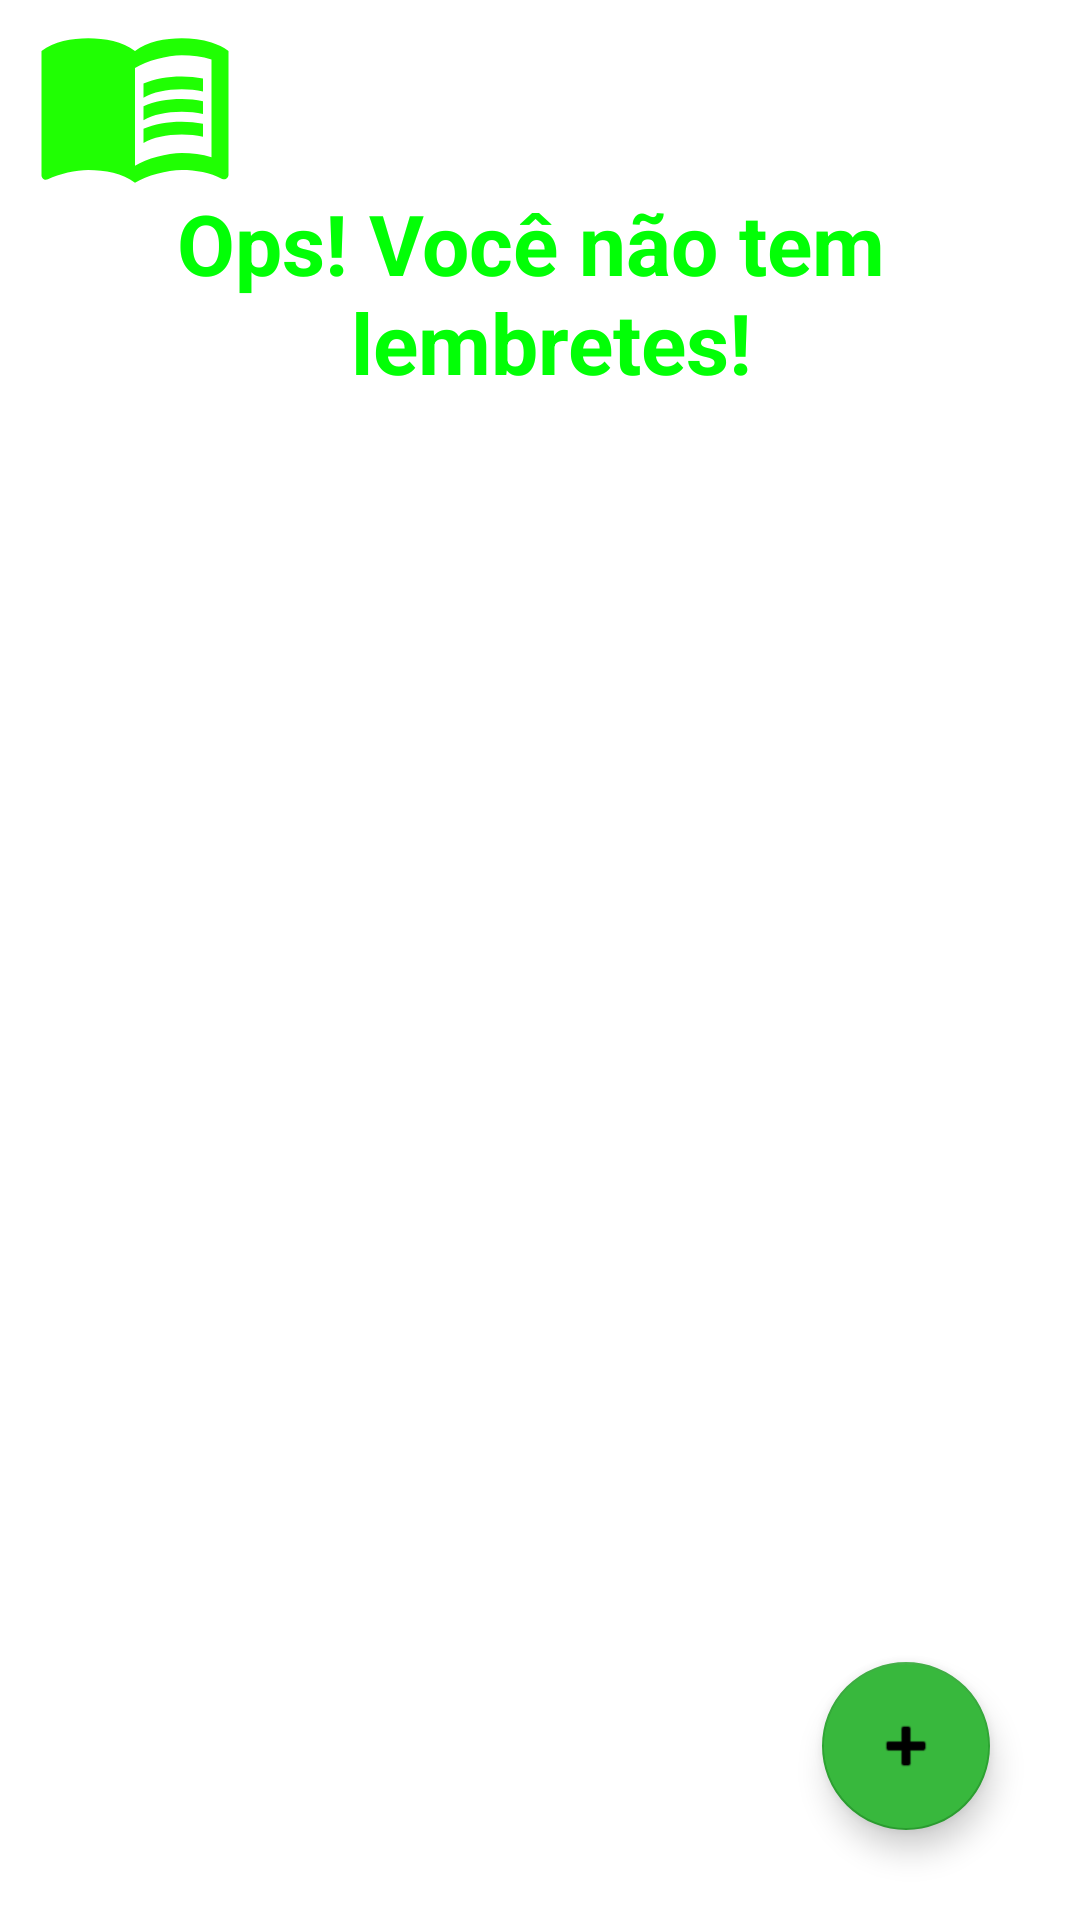

Where to tap for icons on this 1080w x 1920h app screen, as (x,y):
book: (135,110)
Nova Tarefa: (906,1746)
